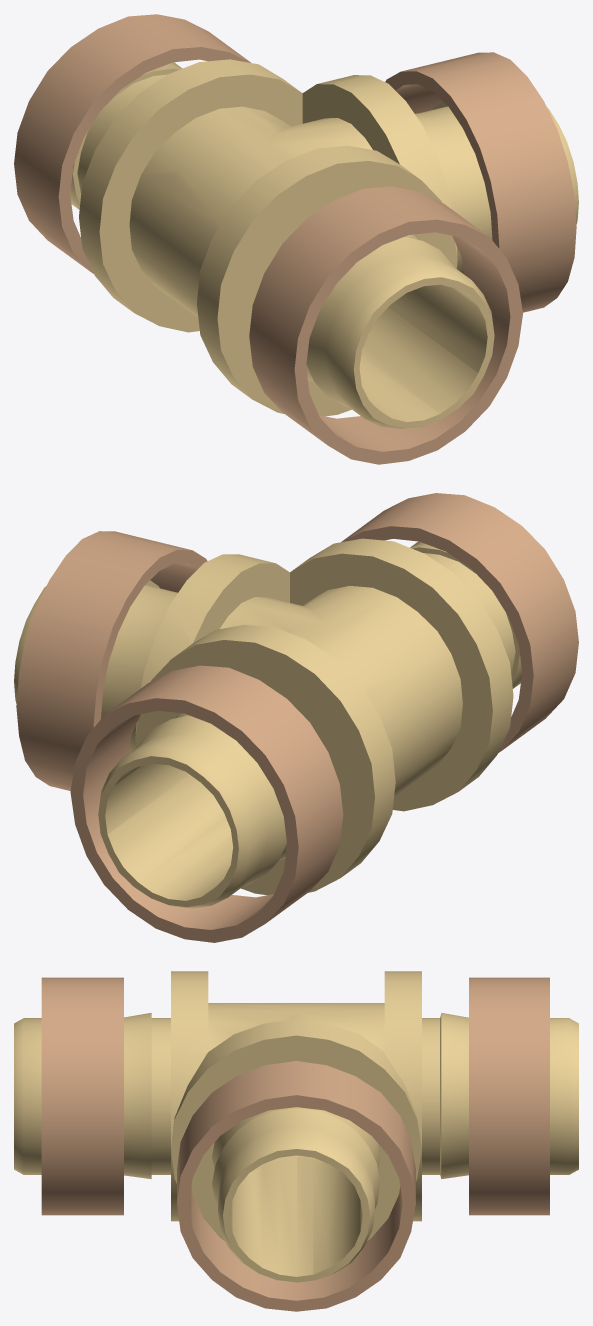
File: pipes_supply__water_heater-garage_gas_tank+garage_hybrid_and_plumbing-pex.glb
The picture shows the model from 3 angles, top to bottom: view 1: azimuth 30°, elevation 25°; view 2: azimuth 150°, elevation 25°; view 3: azimuth 270°, elevation 25°; orthographic projection. The views are drawn at different scales.
Parts seen in each view (by area): view 1: fit_tee_pipe_supply_hot_wh_hybrid__pex; view 2: fit_tee_pipe_supply_hot_wh_hybrid__pex; view 3: fit_tee_pipe_supply_hot_wh_hybrid__pex.
Boxes of the visible parts, <box> form: fit_tee_pipe_supply_hot_wh_hybrid__pex: <box>14,14,578,464</box>; fit_tee_pipe_supply_hot_wh_hybrid__pex: <box>14,493,578,942</box>; fit_tee_pipe_supply_hot_wh_hybrid__pex: <box>14,971,578,1311</box>.
Bounding box in the file's own units: 0.0413 × 0.0254 × 0.0571.
